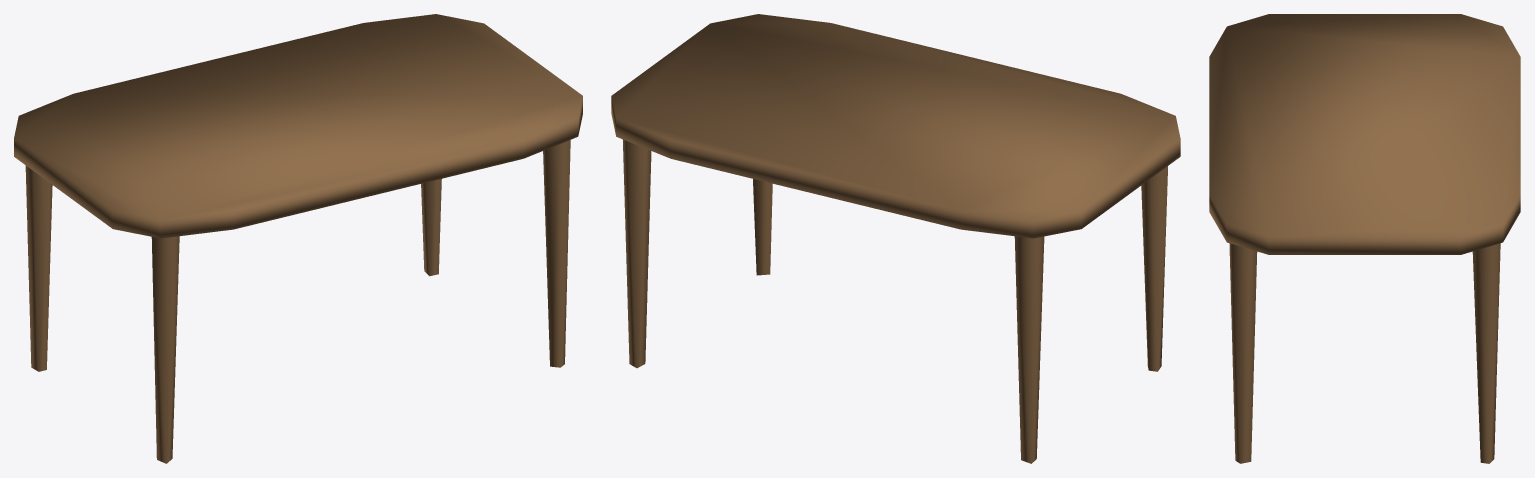
The model's file is Dinner_Table.glb.
3 views of the same model, side by side, from view 1: azimuth 30°, elevation 25°; view 2: azimuth 150°, elevation 25°; view 3: azimuth 270°, elevation 25° (orthographic). The views are drawn at different scales.
Parts seen in each view (by area): view 1: Circle; view 2: Circle; view 3: Circle.
Part boxes in pixels (bbox=[...]): Circle: bbox=[14, 14, 582, 463]; Circle: bbox=[611, 14, 1180, 463]; Circle: bbox=[1209, 14, 1520, 463].
Size of the model in its own units: 1.79 by 0.9093 by 1.06.
